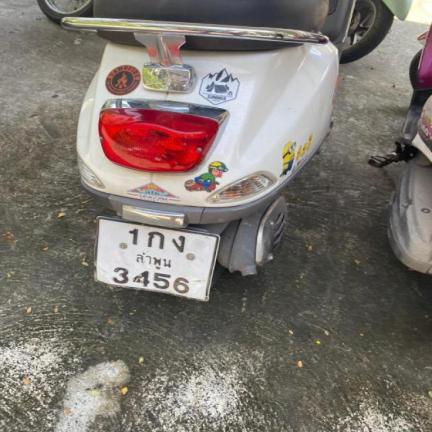1: (127, 226, 141, 246)
3: (111, 266, 130, 285)
4: (132, 265, 152, 286)
5: (153, 271, 173, 290)
6: (173, 277, 191, 297)
A01: (147, 229, 166, 251)
A07: (170, 233, 189, 256)
LPN: (133, 251, 175, 273)
